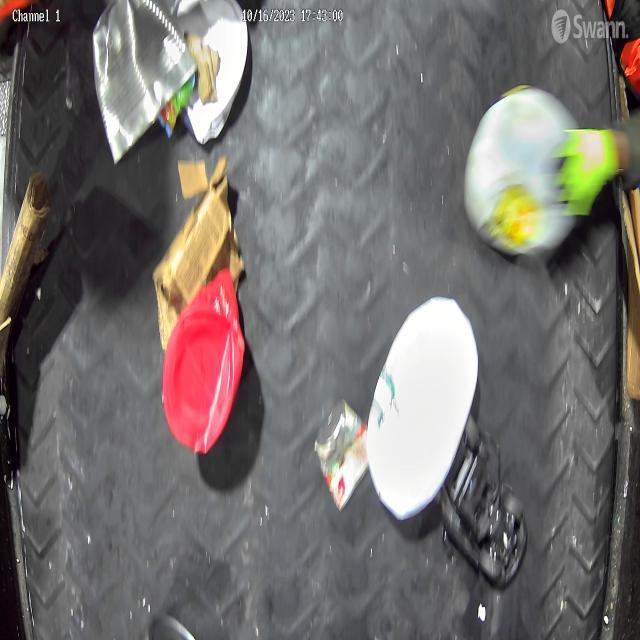can: (90, 0, 193, 153)
milk_jug: (365, 296, 478, 518)
non_white_jug: (162, 267, 245, 456)
